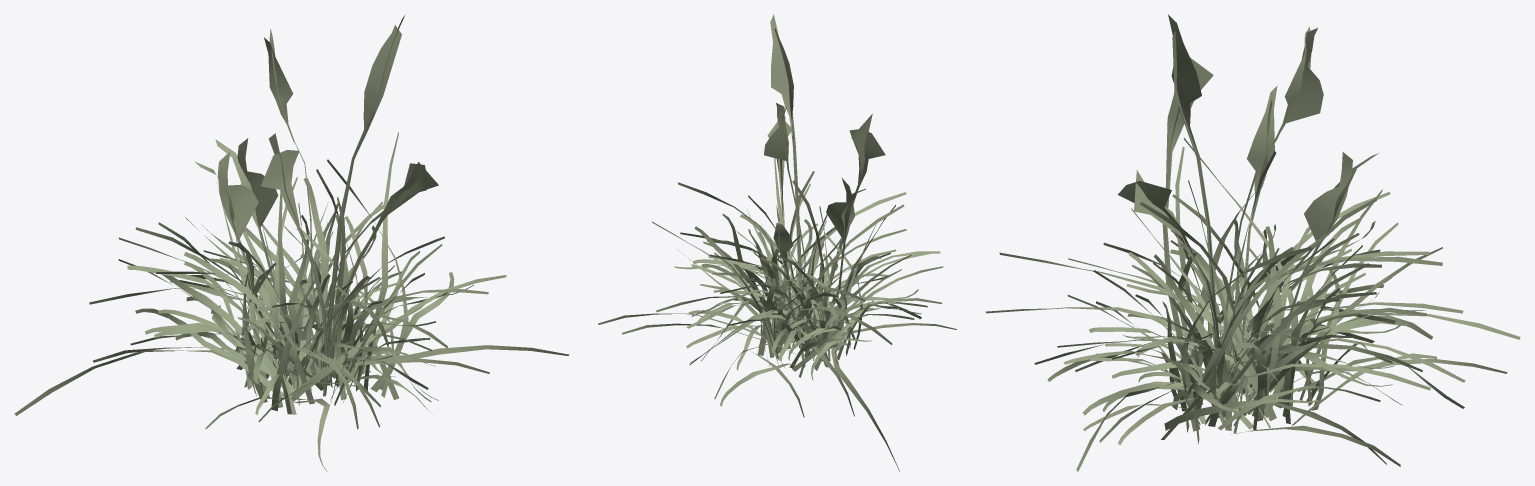
Rendered from grass-lod0.glb.
The picture shows the model from 3 angles, left to right: view 1: azimuth 30°, elevation 25°; view 2: azimuth 150°, elevation 25°; view 3: azimuth 270°, elevation 25°; orthographic projection. The views are drawn at different scales.
Visible parts, largest first — view 1: grass_medium_01_mid_a_LOD0; view 2: grass_medium_01_mid_a_LOD0; view 3: grass_medium_01_mid_a_LOD0.
Part boxes in pixels (bbox=[...]): grass_medium_01_mid_a_LOD0: bbox=[14, 15, 568, 471]; grass_medium_01_mid_a_LOD0: bbox=[598, 14, 956, 471]; grass_medium_01_mid_a_LOD0: bbox=[985, 14, 1520, 471].
Bounding box in the file's own units: 0.2156 × 0.2177 × 0.2214.
